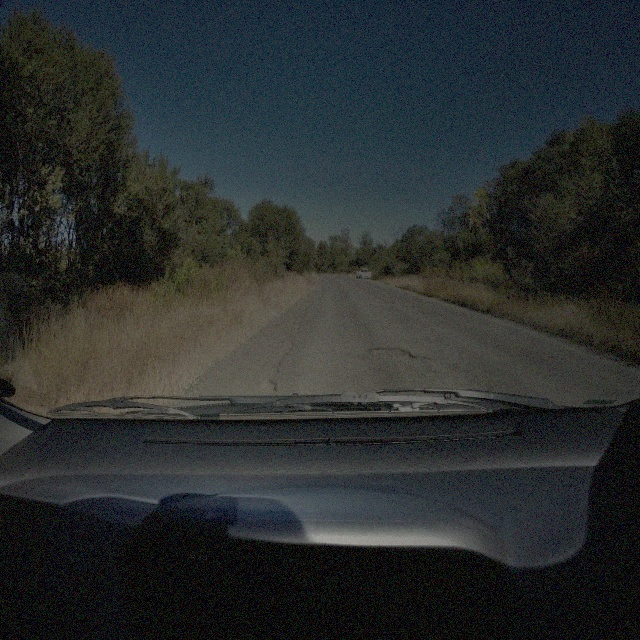pothole: (367, 341, 418, 363)
